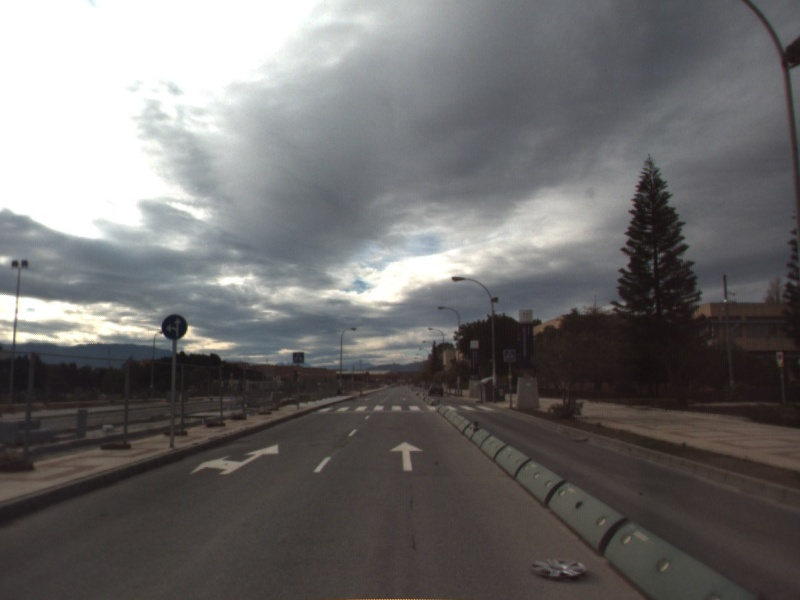STRAIGHT: (388, 439, 426, 472)
STRAIGHT_LEFT: (188, 442, 280, 477)
